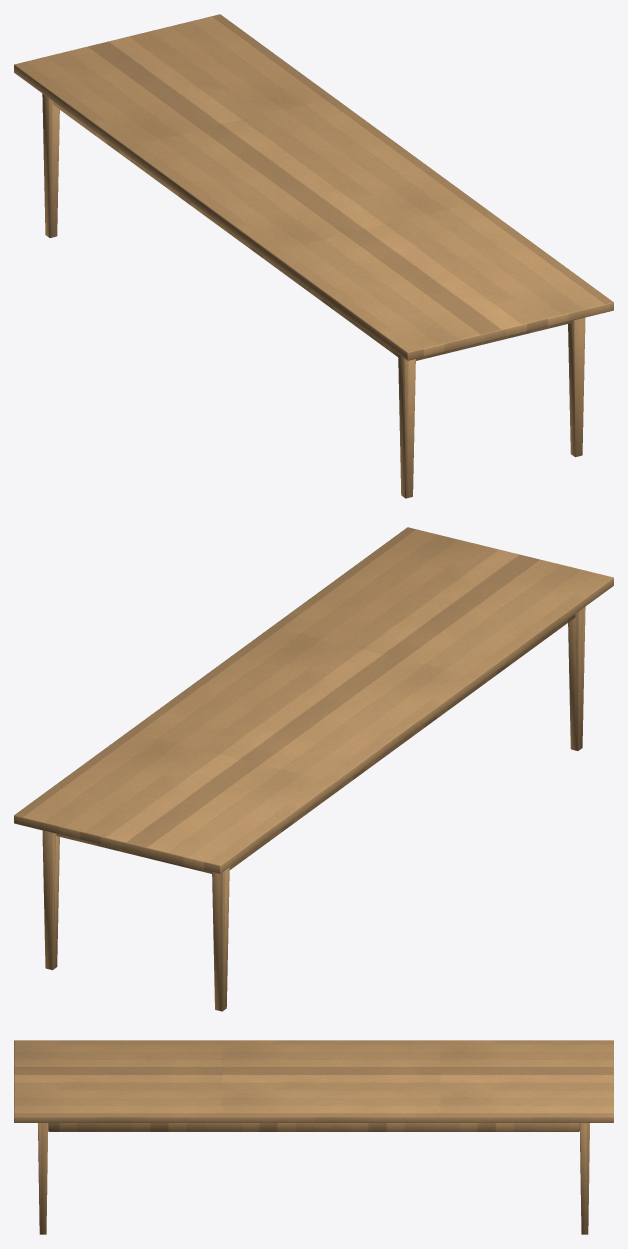
File: display-table-oak.lite.4ed21ef5.glb
3 views of the same model, one above another, from view 1: azimuth 30°, elevation 25°; view 2: azimuth 150°, elevation 25°; view 3: azimuth 270°, elevation 25° (orthographic). The views are drawn at different scales.
Parts seen in each view (by area): view 1: table-top, table-base; view 2: table-top, table-base; view 3: table-top, table-base.
Part boxes in pixels (x1,y1,x2,y2): table-top: (14,14,613,360); table-base: (42,93,585,498); table-top: (14,527,613,873); table-base: (42,606,585,1011); table-top: (14,1040,613,1122); table-base: (38,1123,589,1234).
Bounding box in the file's own units: 1 × 0.75 × 3.3.
1 material, 1 textured.
